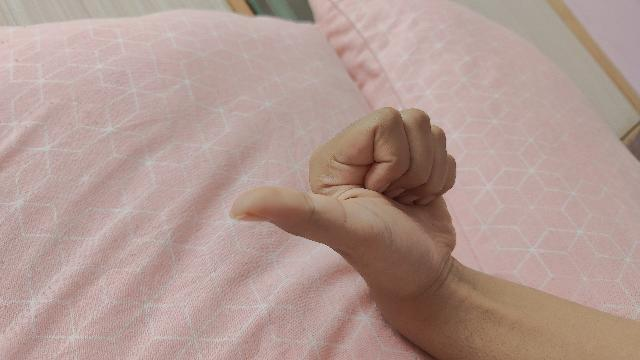shikhar: (230, 108, 582, 360)
